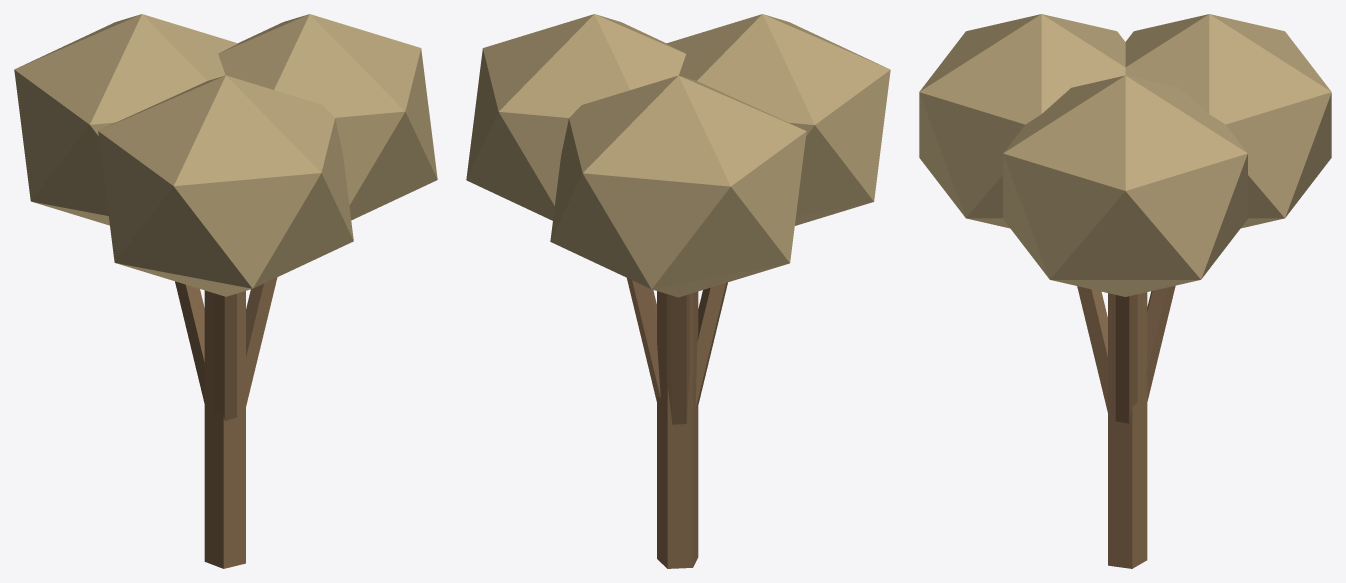
The model's file is plant_hazel_spent.glb.
The picture shows the model from 3 angles, left to right: view 1: azimuth 30°, elevation 25°; view 2: azimuth 150°, elevation 25°; view 3: azimuth 270°, elevation 25°; orthographic projection.
Parts seen in each view (by area): view 1: plant_hazel_spent; view 2: plant_hazel_spent; view 3: plant_hazel_spent.
Boxes of the visible parts, <box> form: plant_hazel_spent: <box>14,14,437,568</box>; plant_hazel_spent: <box>466,14,890,568</box>; plant_hazel_spent: <box>919,14,1331,568</box>.
Bounding box in the file's own units: 0.8313 × 1.2 × 0.8517.
